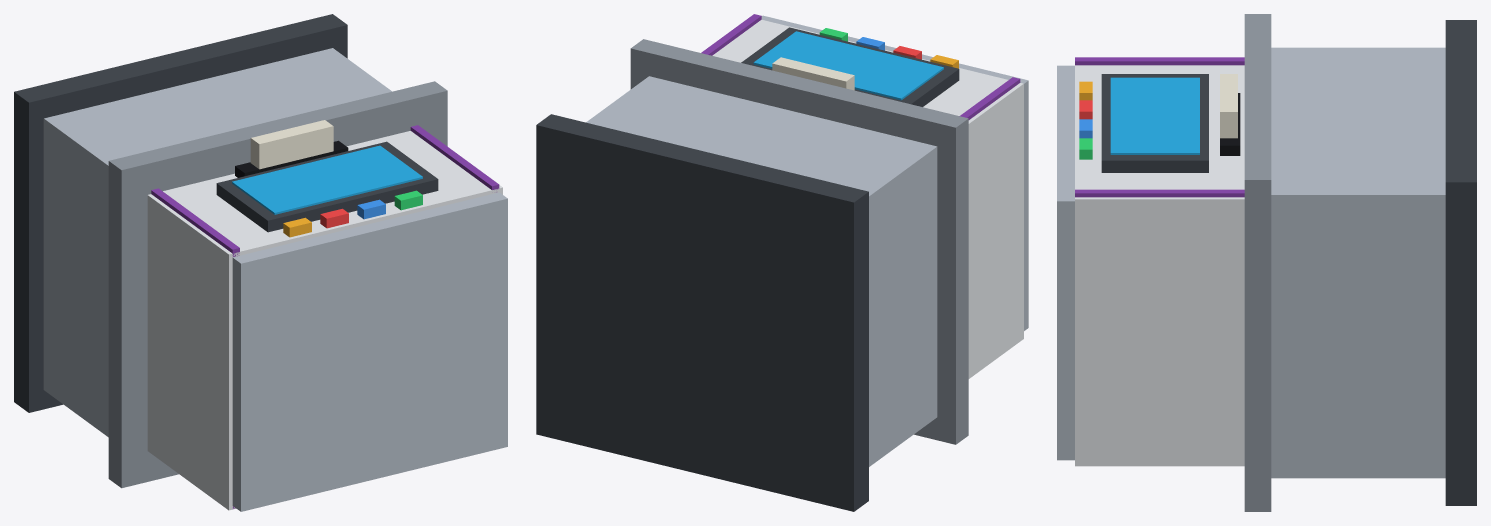
The model's file is permit_issuer.obj.
3 views of the same model, side by side, from view 1: azimuth 30°, elevation 25°; view 2: azimuth 150°, elevation 25°; view 3: azimuth 270°, elevation 25° (orthographic). The views are drawn at different scales.
Visible parts, largest first — view 1: DEV_14_permit_issuer_body2, DEV_01_permit_issuer_body2, DEV_03_permit_issuer_body, DEV_02_permit_issuer_top, DEV_00_permit_issuer_trim, DEV_05_permit_issuer_screen, DEV_04_permit_issuer_trim, DEV_07_permit_issuer_paper, DEV_09_permit_issuer_accent, DEV_08_permit_issuer_accent, DEV_06_permit_issuer_slot; view 2: DEV_00_permit_issuer_trim, DEV_01_permit_issuer_body2, DEV_02_permit_issuer_top, DEV_03_permit_issuer_body, DEV_05_permit_issuer_screen, DEV_04_permit_issuer_trim, DEV_14_permit_issuer_body2, DEV_07_permit_issuer_paper, DEV_09_permit_issuer_accent, DEV_08_permit_issuer_accent; view 3: DEV_01_permit_issuer_body2, DEV_03_permit_issuer_body, DEV_00_permit_issuer_trim, DEV_02_permit_issuer_top, DEV_14_permit_issuer_body2, DEV_05_permit_issuer_screen, DEV_04_permit_issuer_trim, DEV_08_permit_issuer_accent, DEV_09_permit_issuer_accent, DEV_07_permit_issuer_paper, DEV_06_permit_issuer_slot.
Boxes of the visible parts, <box> form: DEV_14_permit_issuer_body2: <box>232,192,507,511</box>; DEV_01_permit_issuer_body2: <box>43,48,391,437</box>; DEV_03_permit_issuer_body: <box>147,131,502,510</box>; DEV_02_permit_issuer_top: <box>108,81,447,488</box>; DEV_00_permit_issuer_trim: <box>14,14,347,412</box>; DEV_05_permit_issuer_screen: <box>232,145,422,214</box>; DEV_04_permit_issuer_trim: <box>216,141,438,232</box>; DEV_07_permit_issuer_paper: <box>250,120,333,169</box>; DEV_09_permit_issuer_accent: <box>151,188,239,508</box>; DEV_08_permit_issuer_accent: <box>410,125,499,192</box>; DEV_06_permit_issuer_slot: <box>235,140,348,177</box>; DEV_00_permit_issuer_trim: <box>536,114,868,511</box>; DEV_01_permit_issuer_body2: <box>586,76,937,466</box>; DEV_02_permit_issuer_top: <box>630,39,968,444</box>; DEV_03_permit_issuer_body: <box>712,19,1023,378</box>; DEV_05_permit_issuer_screen: <box>753,31,943,100</box>; DEV_04_permit_issuer_trim: <box>741,27,959,106</box>; DEV_14_permit_issuer_body2: <box>761,15,1028,330</box>; DEV_07_permit_issuer_paper: <box>772,57,854,90</box>; DEV_09_permit_issuer_accent: <box>959,77,1020,119</box>; DEV_08_permit_issuer_accent: <box>701,14,761,55</box>; DEV_01_permit_issuer_body2: <box>1271,47,1445,478</box>; DEV_03_permit_issuer_body: <box>1075,65,1244,466</box>; DEV_00_permit_issuer_trim: <box>1445,20,1476,505</box>; DEV_02_permit_issuer_top: <box>1244,14,1271,511</box>; DEV_14_permit_issuer_body2: <box>1057,65,1074,460</box>; DEV_05_permit_issuer_screen: <box>1110,77,1199,154</box>; DEV_04_permit_issuer_trim: <box>1101,74,1208,172</box>; DEV_08_permit_issuer_accent: <box>1075,189,1244,197</box>; DEV_09_permit_issuer_accent: <box>1075,57,1244,65</box>; DEV_07_permit_issuer_paper: <box>1220,74,1237,138</box>; DEV_06_permit_issuer_slot: <box>1220,93,1240,155</box>.
Size of the model in its own units: 0.88 by 0.83 by 0.94.
